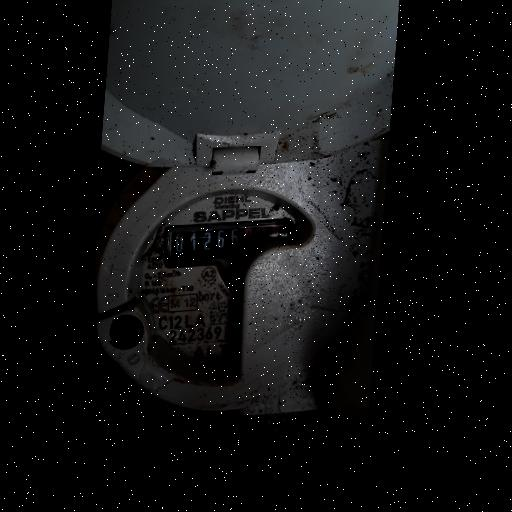0: (170, 231, 190, 257)
1: (187, 230, 204, 255)
2: (200, 230, 216, 255)
5: (254, 225, 273, 250)
6: (226, 227, 244, 253), (212, 229, 229, 254)
9: (241, 226, 255, 252)
border_water_meter_number: (161, 217, 297, 264)
